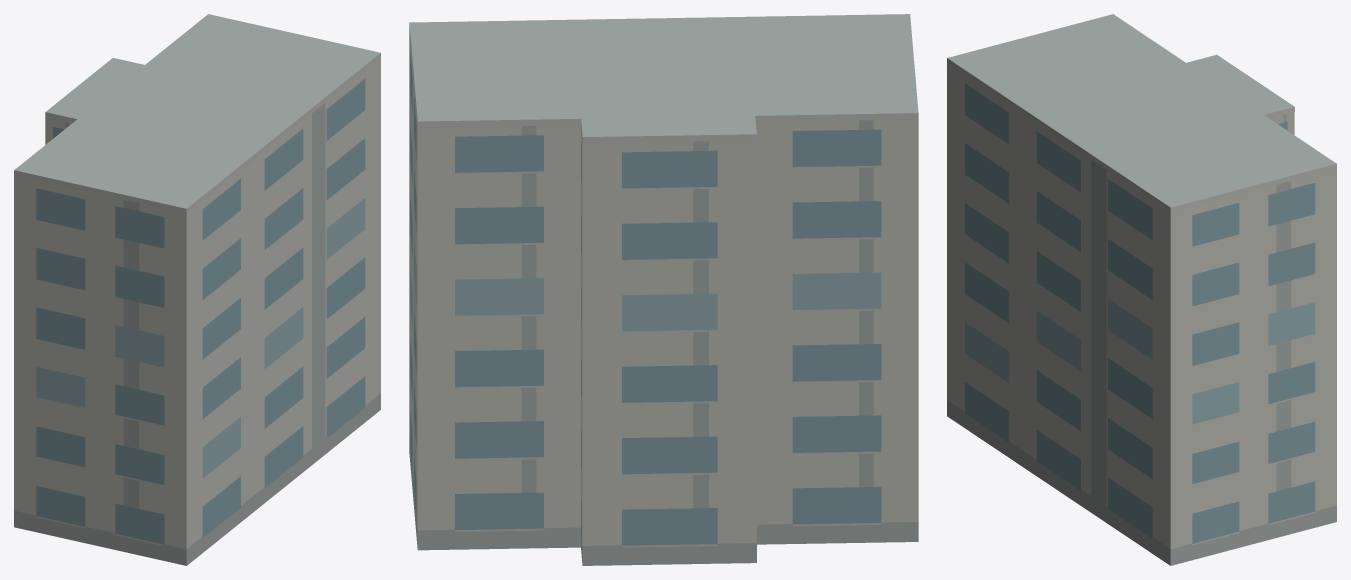
File: survey-upis-32871741.glb
3 renders of one model, left to right at view 1: azimuth 30°, elevation 25°; view 2: azimuth 150°, elevation 25°; view 3: azimuth 270°, elevation 25°, orthographic. The views are drawn at different scales.
Parts seen in each view (by area): view 1: survey-upis-32871741.tmp; view 2: survey-upis-32871741.tmp; view 3: survey-upis-32871741.tmp.
Part boxes in pixels (box(x1,y1,x2,y2)): survey-upis-32871741.tmp: box(14, 14, 380, 565); survey-upis-32871741.tmp: box(409, 14, 918, 565); survey-upis-32871741.tmp: box(947, 14, 1336, 565).
Size of the model in its own units: 19.13 by 16.5 by 16.28.
